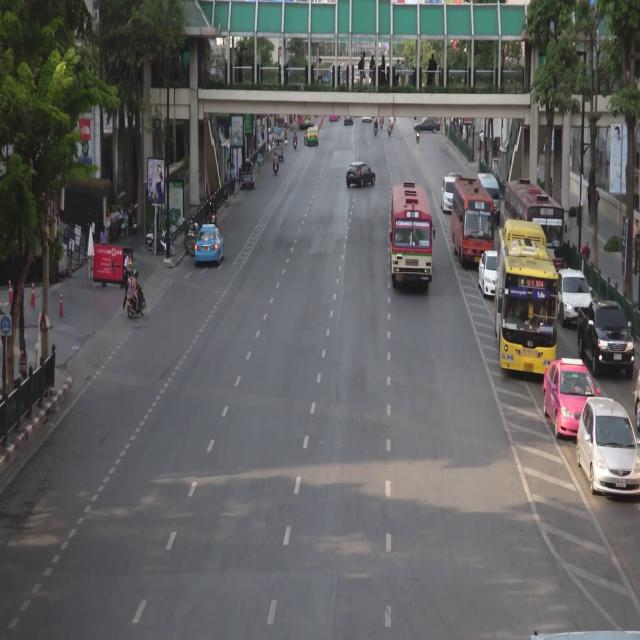bus: (498, 220, 557, 377), (505, 179, 561, 274), (390, 185, 432, 291), (453, 179, 493, 268)
car: (576, 398, 640, 502), (579, 298, 635, 378), (556, 268, 595, 323), (478, 174, 500, 224), (478, 250, 498, 296), (347, 162, 376, 188), (441, 176, 454, 211), (241, 161, 255, 190), (635, 365, 640, 431), (414, 120, 441, 132), (274, 138, 284, 160), (449, 173, 462, 180), (343, 115, 353, 124)
pedestrian: (125, 250, 131, 285), (583, 239, 591, 262), (231, 162, 236, 196), (123, 210, 129, 236), (633, 218, 639, 242), (224, 173, 228, 203), (101, 225, 106, 245), (480, 129, 484, 150), (257, 152, 261, 172), (285, 129, 288, 148), (272, 130, 275, 147), (269, 132, 271, 150), (261, 129, 264, 140)
taxi: (544, 357, 596, 438), (196, 223, 225, 263), (304, 128, 319, 148)
